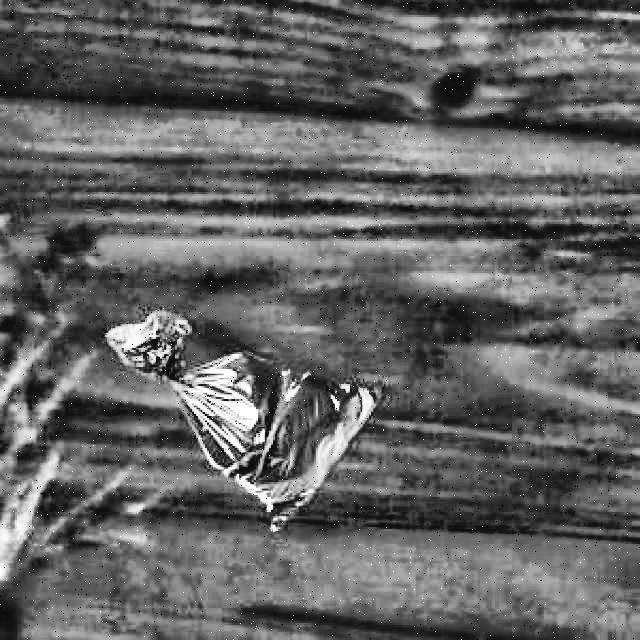Trashbag: (104, 299, 383, 537)
